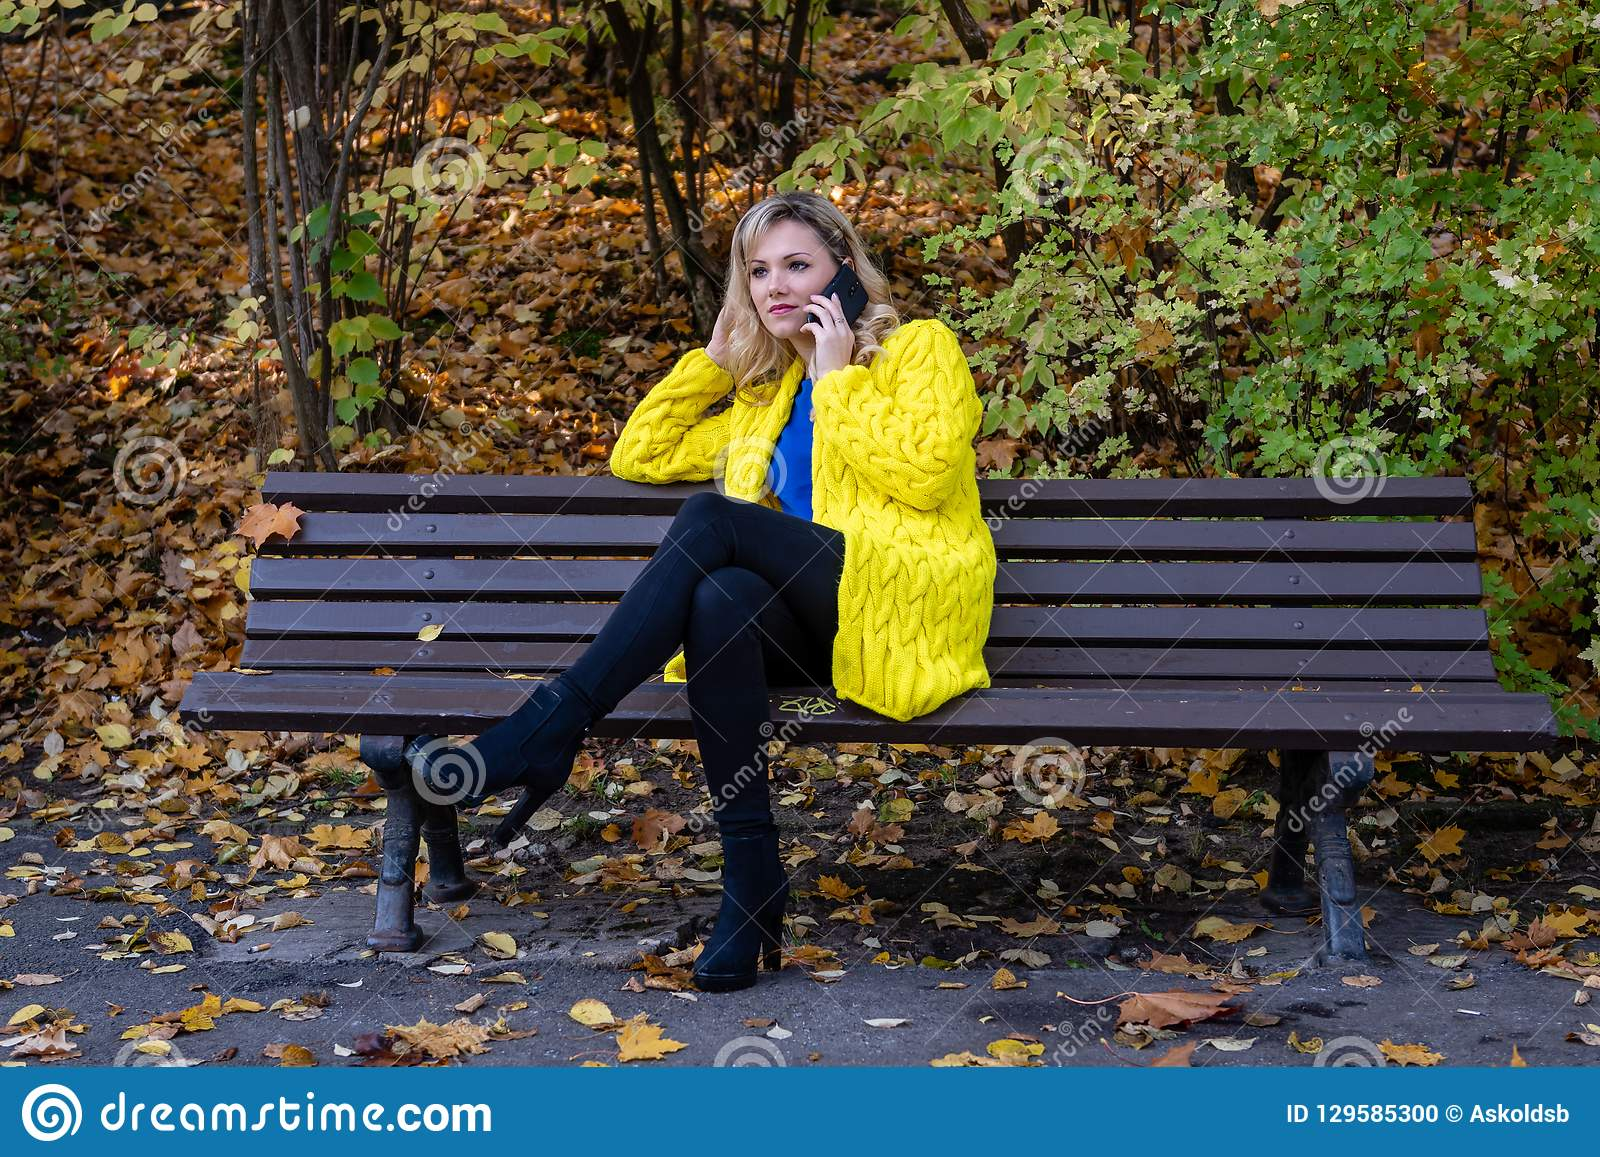phone: (805, 258, 870, 336)
talk: (748, 249, 871, 375)
